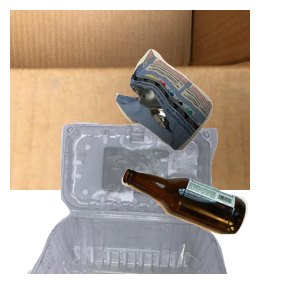cardboard: (10, 10, 250, 190)
glass: (119, 166, 300, 300)
plastic: (25, 120, 245, 300)
trash: (113, 46, 300, 189)
